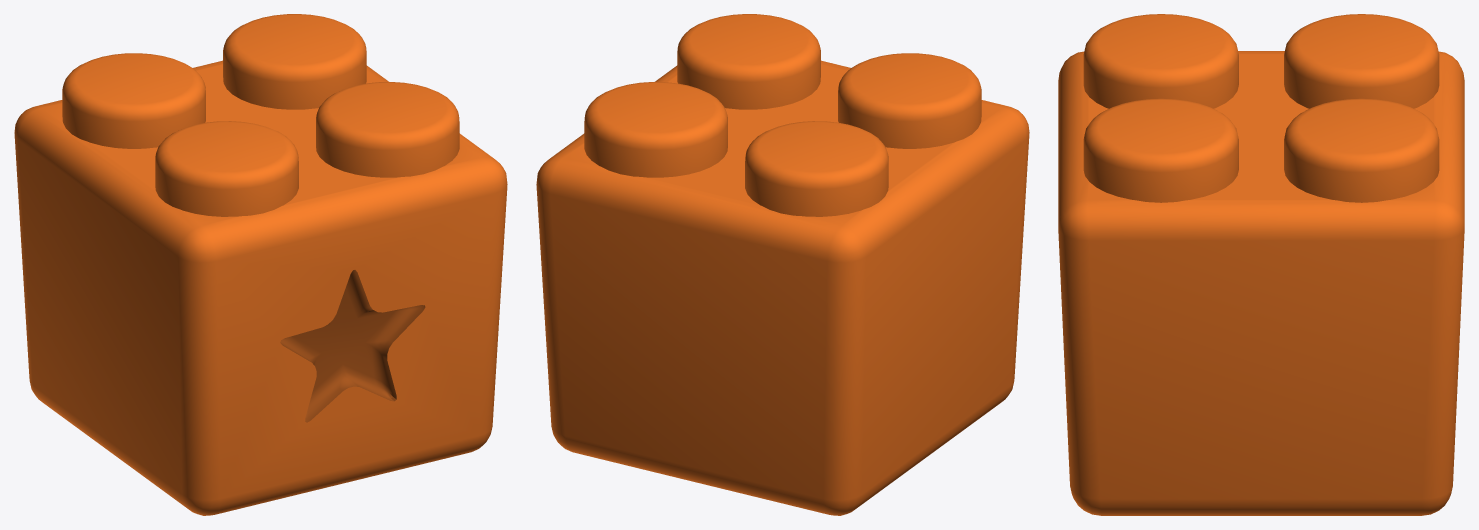
File: Block_Star.fbx
3 renders of one model, left to right at view 1: azimuth 30°, elevation 25°; view 2: azimuth 150°, elevation 25°; view 3: azimuth 270°, elevation 25°, orthographic. The views are drawn at different scales.
Visible parts, largest first — view 1: Block_Star; view 2: Block_Star; view 3: Block_Star.
Part boxes in pixels (x1=…): Block_Star: x1=14, y1=14, x2=507, y2=515; Block_Star: x1=536, y1=14, x2=1029, y2=515; Block_Star: x1=1058, y1=14, x2=1464, y2=515.
Size of the model in its own units: 99.39 by 97.5 by 99.39.
